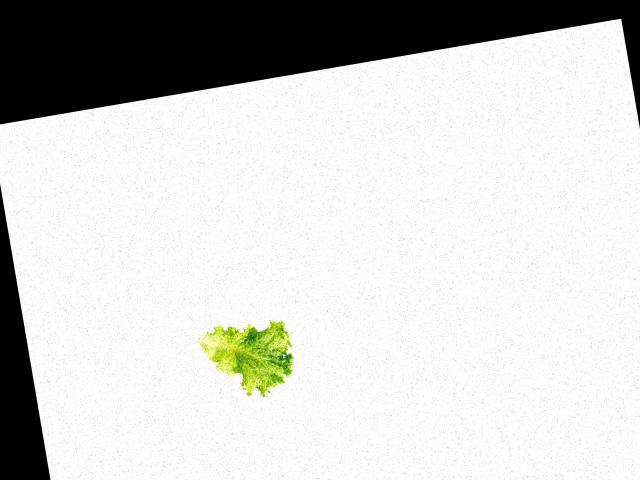lettuce: (195, 317, 300, 405)
